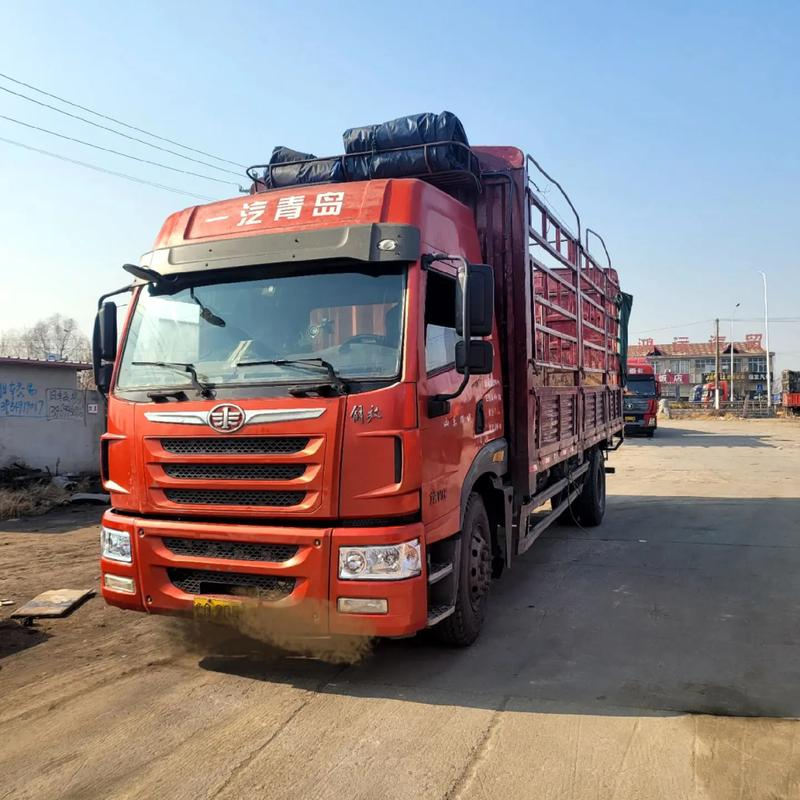卡车: (102, 96, 640, 682)
